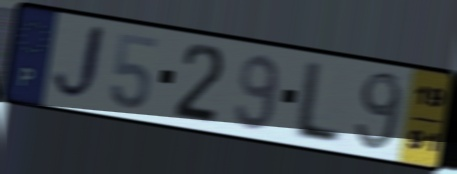2: (170, 41, 228, 128)
5: (108, 29, 160, 112)
9: (351, 69, 406, 154), (231, 51, 283, 132)
J: (48, 21, 110, 106)
L: (288, 58, 346, 148)
